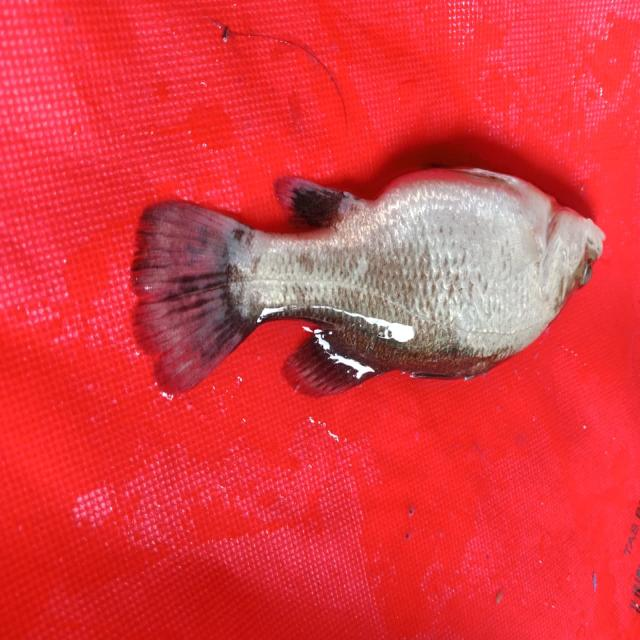ikan: (114, 122, 620, 426)
